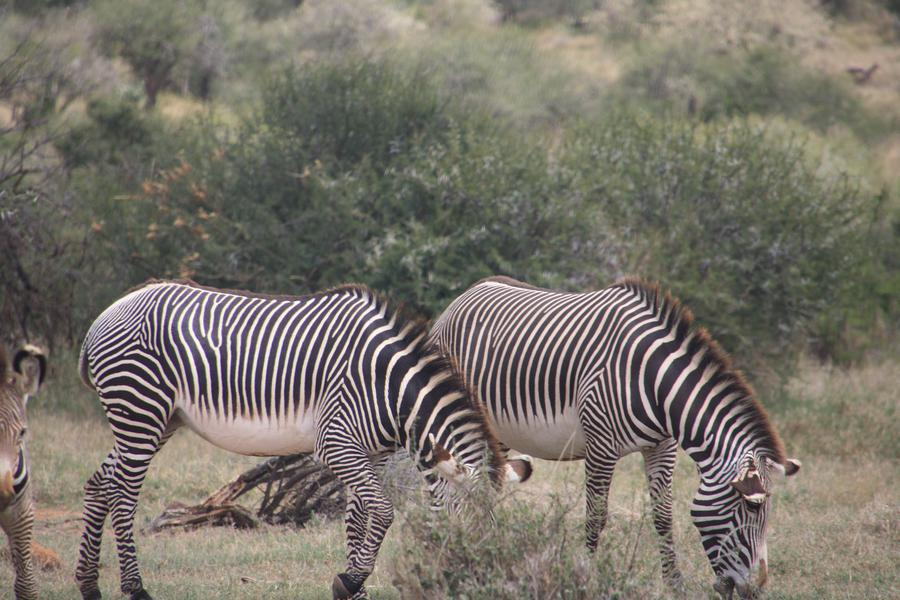zebra_grevys: (81, 265, 372, 461)
